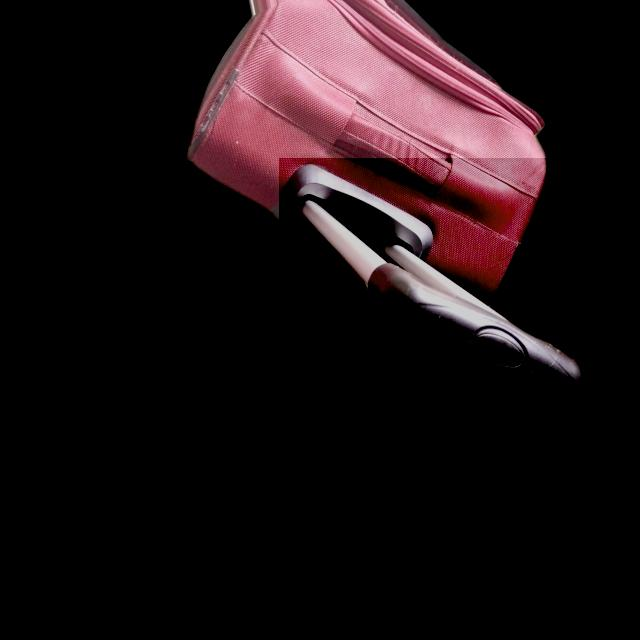Bag: (177, 0, 578, 453)
Handle: (281, 158, 588, 406)
